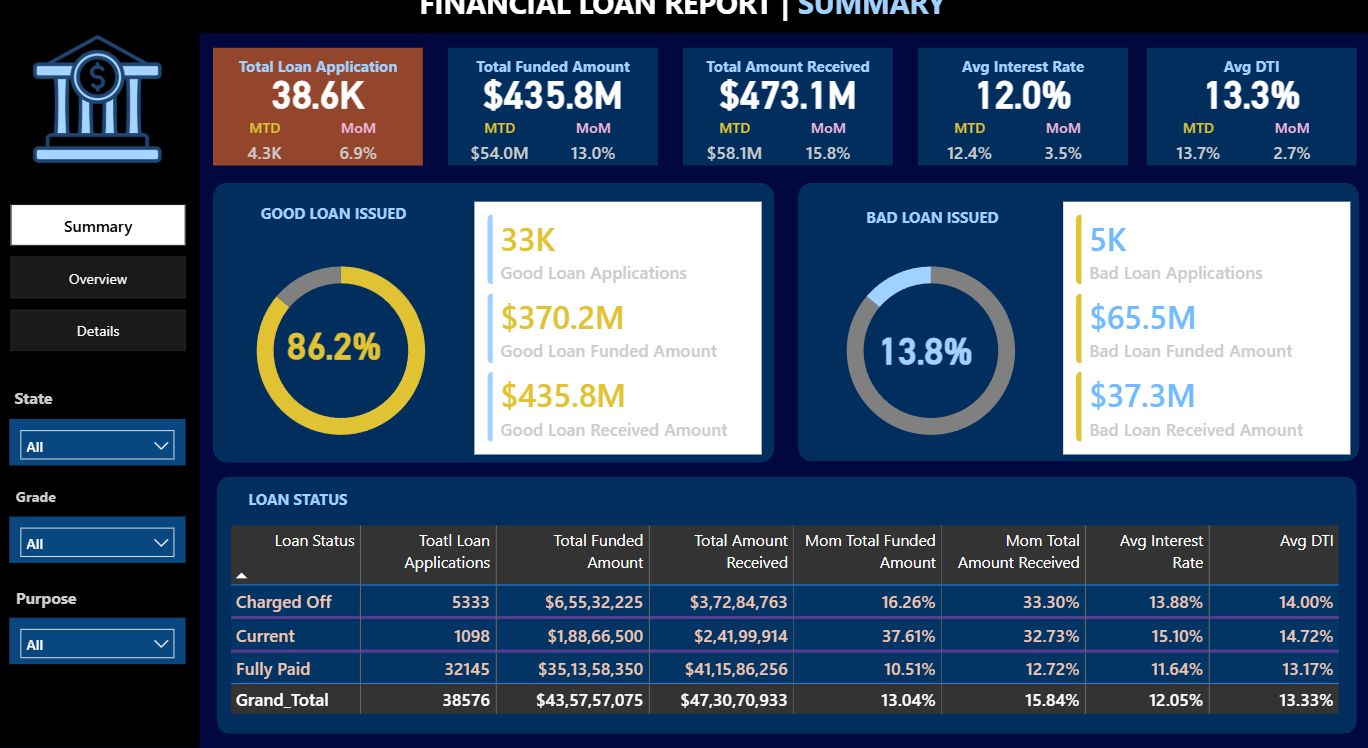

Layout of this report page (visuals, bound fields, positions):
{"tool":"powerbi","page":{"name":"Summary","canvas":[1280,720],"ordinal":0},"visuals":[{"type":"shape","box":[0,54.7,192,665.1],"z":0},{"type":"shape","box":[0,0,1280.3,55],"z":1000},{"type":"textbox","box":[387.2,3.5,508.1,48.8],"z":2000},{"type":"shape","box":[860.5,68.4,195.3,109.8],"z":3000,"group":"g4"},{"type":"shape","box":[641.9,68.6,195.3,109.8],"z":3000,"group":"g2"},{"type":"shape","box":[1073.1,68.6,195.3,109.8],"z":3000,"group":"g5"},{"type":"group","id":"g1","title":"Group 1","box":[204.7,68.8,195.3,117.4],"z":3000},{"type":"shape","box":[204.7,68.8,195.3,109.8],"z":3000,"group":"g1"},{"type":"shape","box":[423.3,68.8,195.3,109.8],"z":3000,"group":"g3"},{"type":"group","id":"g2","title":"Group 1","box":[641.9,68.6,195.3,117.4],"z":4000},{"type":"card","fields":{"Values":["financial_loan.Avg Interest Rate"]},"box":[860.5,82.5,195.3,54.4],"z":4000,"group":"g4"},{"type":"card","fields":{"Values":["financial_loan.Total Amount Received"]},"box":[641.9,82.7,195.3,54.4],"z":4000,"group":"g2"},{"type":"card","fields":{"Values":["financial_loan.Avg DTI"]},"box":[1073.1,82.7,195.3,54.4],"z":4000,"group":"g5"},{"type":"card","fields":{"Values":["financial_loan.Toatl Loan Applications"]},"box":[204.7,82.9,195.3,54.4],"z":4000,"group":"g1"},{"type":"card","fields":{"Values":["financial_loan.Total Funded Amount"]},"box":[423.3,82.9,195.3,54.4],"z":4000,"group":"g3"},{"type":"textbox","box":[860.5,70.6,195.3,29.4],"z":5000,"group":"g4"},{"type":"textbox","box":[641.9,70.8,195.3,29.4],"z":5000,"group":"g2"},{"type":"textbox","box":[1073.1,70.8,195.3,29.4],"z":5000,"group":"g5"},{"type":"textbox","box":[204.7,71,195.3,29.4],"z":5000,"group":"g1"},{"type":"textbox","box":[423.3,71,195.3,29.4],"z":5000,"group":"g3"},{"type":"shape","box":[204.7,194.2,522.1,260.5],"z":5000},{"type":"card","title":"MTD","fields":{"Values":["financial_loan.MTD Avg Interest Rate"]},"box":[871,133.6,75.6,52.2],"z":6000,"group":"g4"},{"type":"card","title":"MTD","fields":{"Values":["financial_loan.MTD Total Amount Received"]},"box":[652.4,133.8,75.6,52.2],"z":6000,"group":"g2"},{"type":"card","title":"MTD","fields":{"Values":["financial_loan.MTD Avg DTI"]},"box":[1083.6,133.8,75.6,52.2],"z":6000,"group":"g5"},{"type":"card","title":"MTD","fields":{"Values":["financial_loan.MTD Loan Application"]},"box":[215.2,134,75.6,52.2],"z":6000,"group":"g1"},{"type":"card","title":"MTD","fields":{"Values":["financial_loan.MTD Funded Amount"]},"box":[433.8,134,75.6,52.2],"z":6000,"group":"g3"},{"type":"card","fields":{"Values":["financial_loan.Good Loan %"]},"box":[262.8,318.6,109.3,50],"z":6000},{"type":"card","title":"MoM","fields":{"Values":["financial_loan.Mom Avg Ineterest Rate"]},"box":[958.2,133.6,75.6,52.2],"z":7000,"group":"g4"},{"type":"card","title":"MoM","fields":{"Values":["financial_loan.Mom Total Amount Received"]},"box":[739.6,133.8,75.6,52.2],"z":7000,"group":"g2"},{"type":"card","title":"MoM","fields":{"Values":["financial_loan.Mom Avg DTI"]},"box":[1170.8,133.8,75.6,52.2],"z":7000,"group":"g5"},{"type":"card","title":"MoM","fields":{"Values":["financial_loan.Mom Loan Application"]},"box":[302.4,134,75.6,52.2],"z":7000,"group":"g1"},{"type":"card","title":"MoM","fields":{"Values":["financial_loan.Mom Total Funded Amount"]},"box":[521,134,75.6,52.2],"z":7000,"group":"g3"},{"type":"textbox","box":[230.2,208.1,173.3,31.4],"z":7000},{"type":"group","id":"g3","title":"Group 1","box":[423.3,68.8,195.3,117.4],"z":8000},{"type":"group","id":"g4","title":"Group 1","box":[860.5,68.4,195.3,117.4],"z":9000},{"type":"donutChart","fields":{"Category":["financial_loan.Good vs Bad Loan"],"Y":["financial_loan.Toatl Loan Applications"]},"box":[210.5,247.7,226.7,205.8],"z":10000},{"type":"group","id":"g5","title":"Group 1","box":[1073.1,68.6,195.3,117.4],"z":11000},{"type":"shape","box":[748.8,194.2,522.1,259.3],"z":12000},{"type":"cardVisual","fields":{"Data":["financial_loan.Good Loan Applications","financial_loan.Good Loan Funded Amount","financial_loan.Good Loan Received Amount"]},"box":[443,207,277.9,246.5],"z":13000},{"type":"donutChart","fields":{"Category":["financial_loan.Good vs Bad Loan"],"Y":["financial_loan.Toatl Loan Applications"]},"box":[759.3,247.7,226.7,205.8],"z":14000},{"type":"textbox","box":[787.2,211.6,173.3,31.4],"z":15000},{"type":"shape","box":[208.1,467.4,1060.5,239.5],"z":16000},{"type":"card","fields":{"Values":["financial_loan.Bad Loan %"]},"box":[812.8,323.3,109.3,50],"z":17000},{"type":"cardVisual","fields":{"Data":["financial_loan.Bad Loan Applications","financial_loan.Bad Loan Funded Amount","financial_loan.Bad Loan Received Amount"]},"box":[990.7,207,277.9,246.5],"z":18000},{"type":"tableEx","fields":{"Values":["financial_loan.loan_status","financial_loan.Toatl Loan Applications","financial_loan.Total Funded Amount","financial_loan.Total Amount Received","financial_loan.Mom Total Funded Amount","financial_loan.Mom Total Amount Received","financial_loan.Avg Interest Rate","financial_loan.Avg DTI"]},"box":[215.1,508.1,1051.2,190.7],"z":19000},{"type":"textbox","box":[222.1,474.4,123.3,31.4],"z":20000},{"type":"slicer","fields":{"Values":["financial_loan.address_state"]},"box":[15.1,414,164,43],"z":21000},{"type":"textbox","box":[15.1,379.1,52.3,39.5],"z":22000},{"type":"slicer","fields":{"Values":["financial_loan.grade"]},"box":[15.1,504.7,164,43],"z":23000},{"type":"textbox","box":[16.3,472.1,52.3,39.5],"z":24000},{"type":"textbox","box":[16.3,565.1,72.1,39.5],"z":25000},{"type":"slicer","fields":{"Values":["financial_loan.purpose"]},"box":[15.1,598.8,164,43],"z":26000},{"type":"image","box":[15.1,54.7,164,123.3],"z":27000},{"type":"pageNavigator","box":[16.3,214,164,139.5],"z":28000}]}

Visuals, with their boxes in screenshot pixels (x1, y1, x2, y2), scaled from the page's 1280x720 canvas onto the 1368x748 screenshot:
shape: [left=0, top=57, right=205, bottom=747]
shape: [left=0, top=0, right=1367, bottom=57]
textbox: [left=414, top=4, right=957, bottom=54]
shape: [left=920, top=71, right=1128, bottom=185]
shape: [left=686, top=71, right=895, bottom=185]
shape: [left=1147, top=71, right=1356, bottom=185]
"Group 1" group: [left=219, top=71, right=428, bottom=193]
shape: [left=219, top=71, right=428, bottom=186]
shape: [left=452, top=71, right=661, bottom=186]
"Group 1" group: [left=686, top=71, right=895, bottom=193]
card - financial_loan.Avg Interest Rate: [left=920, top=86, right=1128, bottom=142]
card - financial_loan.Total Amount Received: [left=686, top=86, right=895, bottom=142]
card - financial_loan.Avg DTI: [left=1147, top=86, right=1356, bottom=142]
card - financial_loan.Toatl Loan Applications: [left=219, top=86, right=428, bottom=143]
card - financial_loan.Total Funded Amount: [left=452, top=86, right=661, bottom=143]
textbox: [left=920, top=73, right=1128, bottom=104]
textbox: [left=686, top=74, right=895, bottom=104]
textbox: [left=1147, top=74, right=1356, bottom=104]
textbox: [left=219, top=74, right=428, bottom=104]
textbox: [left=452, top=74, right=661, bottom=104]
shape: [left=219, top=202, right=777, bottom=472]
"MTD" card: [left=931, top=139, right=1012, bottom=193]
"MTD" card: [left=697, top=139, right=778, bottom=193]
"MTD" card: [left=1158, top=139, right=1239, bottom=193]
"MTD" card: [left=230, top=139, right=311, bottom=193]
"MTD" card: [left=464, top=139, right=544, bottom=193]
card - financial_loan.Good Loan %: [left=281, top=331, right=398, bottom=383]
"MoM" card: [left=1024, top=139, right=1105, bottom=193]
"MoM" card: [left=790, top=139, right=871, bottom=193]
"MoM" card: [left=1251, top=139, right=1332, bottom=193]
"MoM" card: [left=323, top=139, right=404, bottom=193]
"MoM" card: [left=557, top=139, right=638, bottom=193]
textbox: [left=246, top=216, right=431, bottom=249]
"Group 1" group: [left=452, top=71, right=661, bottom=193]
"Group 1" group: [left=920, top=71, right=1128, bottom=193]
donutChart - financial_loan.Good vs Bad Loan x financial_loan.Toatl Loan Applications: [left=225, top=257, right=467, bottom=471]
"Group 1" group: [left=1147, top=71, right=1356, bottom=193]
shape: [left=800, top=202, right=1358, bottom=471]
cardVisual - financial_loan.Good Loan Applications x financial_loan.Good Loan Funded Amount: [left=473, top=215, right=770, bottom=471]
donutChart - financial_loan.Good vs Bad Loan x financial_loan.Toatl Loan Applications: [left=812, top=257, right=1054, bottom=471]
textbox: [left=841, top=220, right=1027, bottom=252]
shape: [left=222, top=486, right=1356, bottom=734]
card - financial_loan.Bad Loan %: [left=869, top=336, right=985, bottom=388]
cardVisual - financial_loan.Bad Loan Applications x financial_loan.Bad Loan Funded Amount: [left=1059, top=215, right=1356, bottom=471]
tableEx - financial_loan.loan_status x financial_loan.Toatl Loan Applications: [left=230, top=528, right=1353, bottom=726]
textbox: [left=237, top=493, right=369, bottom=525]
slicer - financial_loan.address_state: [left=16, top=430, right=191, bottom=475]
textbox: [left=16, top=394, right=72, bottom=435]
slicer - financial_loan.grade: [left=16, top=524, right=191, bottom=569]
textbox: [left=17, top=490, right=73, bottom=531]
textbox: [left=17, top=587, right=94, bottom=628]
slicer - financial_loan.purpose: [left=16, top=622, right=191, bottom=667]
image: [left=16, top=57, right=191, bottom=185]
pageNavigator: [left=17, top=222, right=193, bottom=367]
